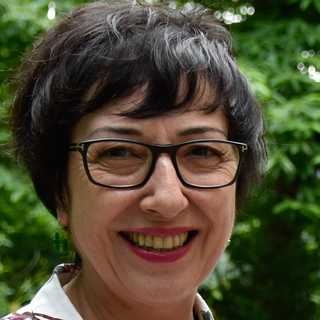eye: (97, 143, 141, 166), (183, 141, 225, 165)
